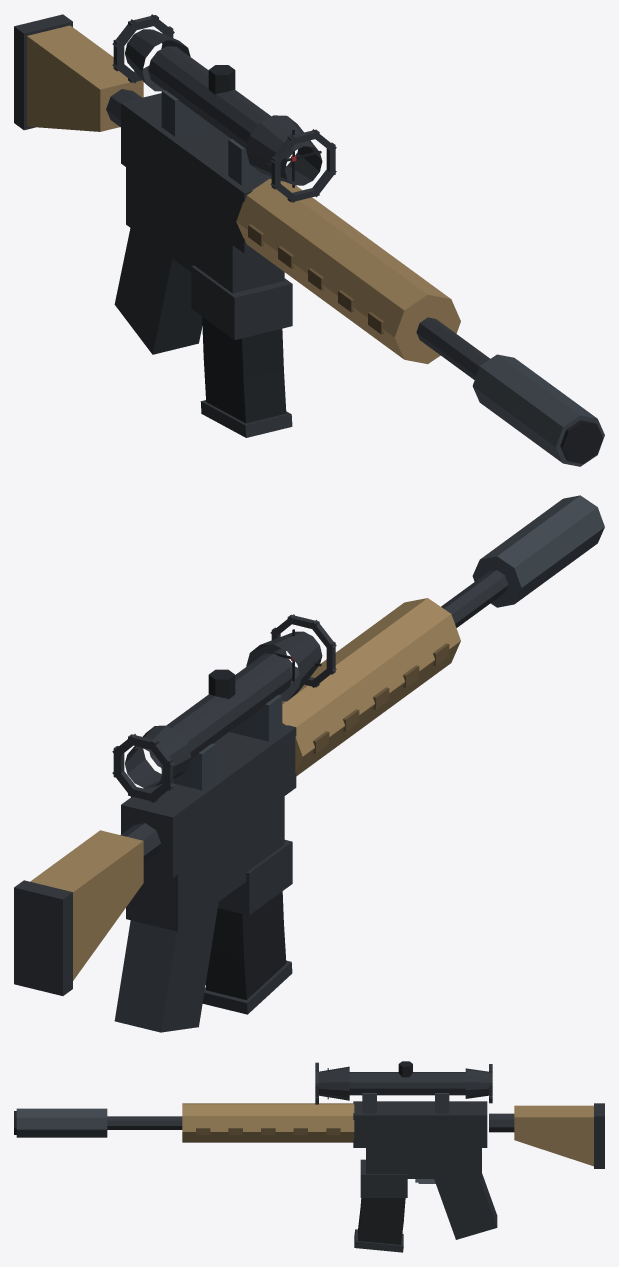
The model's file is wpn_m110.fbx.
3 views of the same model, one above another, from view 1: azimuth 30°, elevation 25°; view 2: azimuth 150°, elevation 25°; view 3: azimuth 270°, elevation 25° (orthographic). The views are drawn at different scales.
Parts seen in each view (by area): view 1: wpn_m110; view 2: wpn_m110; view 3: wpn_m110.
Part boxes in pixels (bbox=[...]): wpn_m110: bbox=[14, 14, 604, 466]; wpn_m110: bbox=[14, 495, 604, 1032]; wpn_m110: bbox=[14, 1061, 604, 1252].
Size of the model in its own units: 23.5 by 111 by 327.
